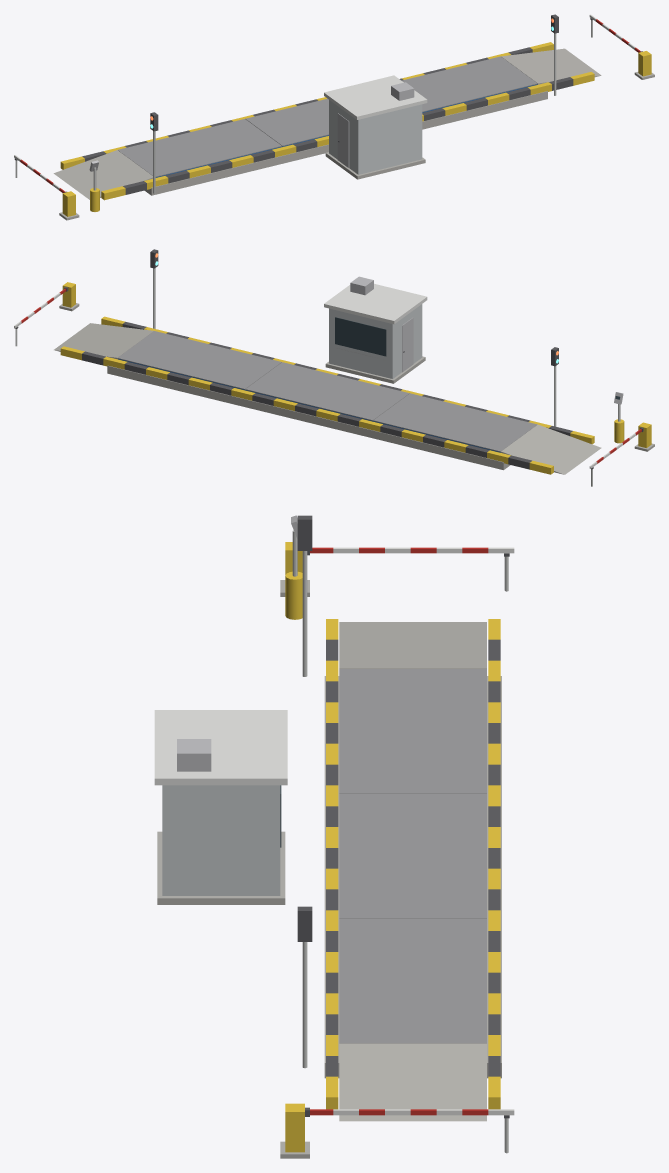
Rendered from SM_Weighbridge.fbx.
The picture shows the model from 3 angles, top to bottom: view 1: azimuth 30°, elevation 25°; view 2: azimuth 150°, elevation 25°; view 3: azimuth 270°, elevation 25°; orthographic projection. The views are drawn at different scales.
Visible parts, largest first — view 1: WB_Foundation, WB_Deck, WB_Booth, WB_TrafficLights, WB_BarrierHousing_Entry, WB_BarrierHousing_Exit, WB_RFIDPost; view 2: WB_Deck, WB_Foundation, WB_Booth, WB_TrafficLights, WB_RFIDPost, WB_BarrierHousing_Entry, WB_BarrierHousing_Exit; view 3: WB_Deck, WB_Foundation, WB_Booth, WB_TrafficLights, WB_BarrierArm_Exit, WB_BarrierArm_Entry, WB_BarrierHousing_Exit, WB_RFIDPost.
Boxes of the visible parts, x1=… form: WB_Foundation: x1=53, y1=42, x2=601, y2=200; WB_Deck: x1=118, y1=56, x2=537, y2=177; WB_Booth: x1=324, y1=75, x2=427, y2=179; WB_TrafficLights: x1=150, y1=14, x2=558, y2=193; WB_BarrierHousing_Entry: x1=59, y1=191, x2=79, y2=220; WB_BarrierHousing_Exit: x1=634, y1=51, x2=654, y2=79; WB_RFIDPost: x1=89, y1=160, x2=99, y2=211; WB_Deck: x1=117, y1=331, x2=537, y2=452; WB_Foundation: x1=54, y1=316, x2=601, y2=474; WB_Booth: x1=324, y1=276, x2=427, y2=383; WB_TrafficLights: x1=150, y1=249, x2=558, y2=426; WB_RFIDPost: x1=614, y1=392, x2=624, y2=443; WB_BarrierHousing_Entry: x1=634, y1=422, x2=654, y2=451; WB_BarrierHousing_Exit: x1=59, y1=282, x2=79, y2=311; WB_Deck: x1=339, y1=669, x2=486, y2=1043; WB_Foundation: x1=324, y1=619, x2=501, y2=1121; WB_Booth: x1=154, y1=710, x2=287, y2=904; WB_TrafficLights: x1=297, y1=515, x2=312, y2=1068; WB_BarrierArm_Exit: x1=305, y1=1107, x2=514, y2=1116; WB_BarrierArm_Entry: x1=307, y1=547, x2=514, y2=555; WB_BarrierHousing_Exit: x1=280, y1=1103, x2=309, y2=1158; WB_RFIDPost: x1=285, y1=515, x2=302, y2=619.
Bounding box in the file's own units: 2760 × 385 × 730.
